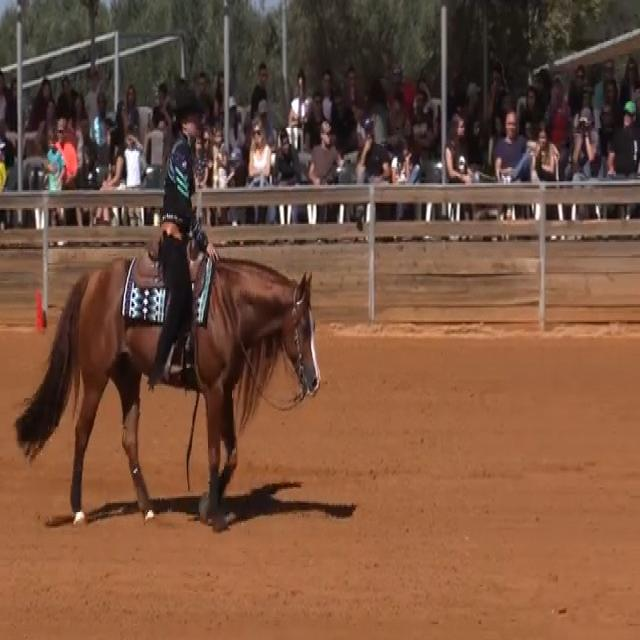horse: (14, 240, 322, 532)
